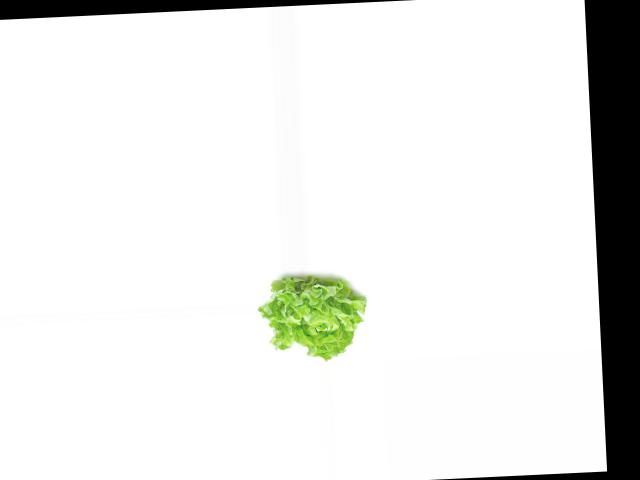lettuce: (257, 270, 367, 363)
